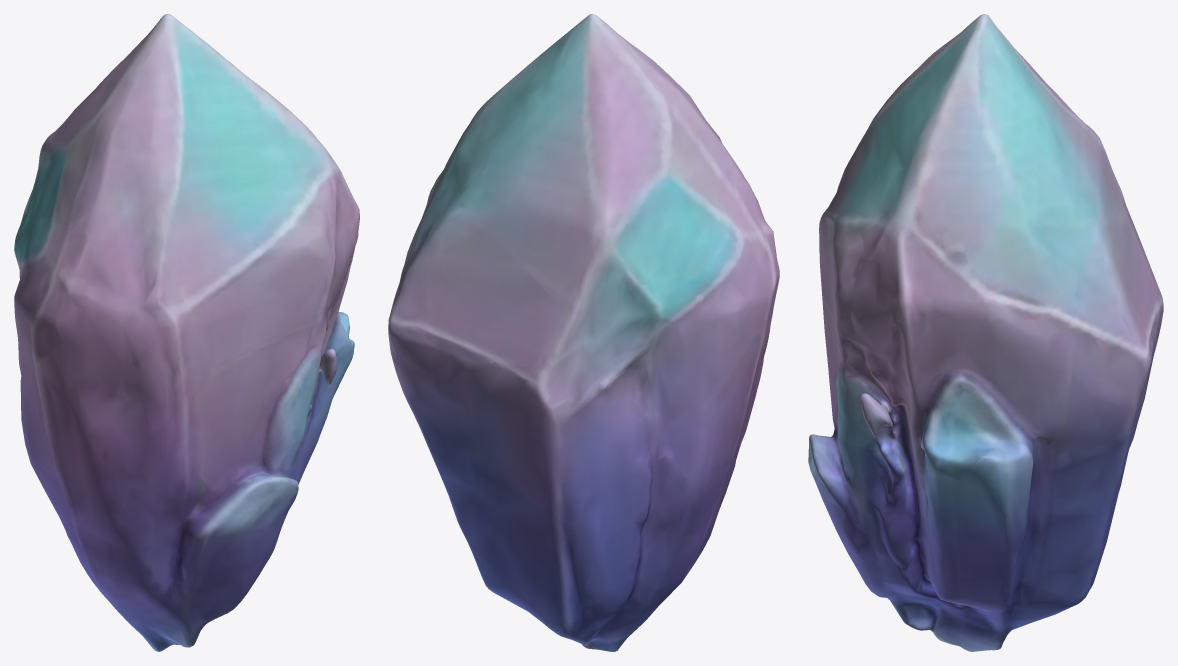
File: crystal2.glb
3 views of the same model, side by side, from view 1: azimuth 30°, elevation 25°; view 2: azimuth 150°, elevation 25°; view 3: azimuth 270°, elevation 25° (orthographic). The views are drawn at different scales.
Parts seen in each view (by area): view 1: high_poly; view 2: high_poly; view 3: high_poly.
Part boxes in pixels (box(x1,y1,x2,y2)): high_poly: box(14, 14, 359, 651); high_poly: box(388, 14, 779, 651); high_poly: box(808, 14, 1163, 651).
Bounding box in the file's own units: 0.5603 × 1 × 0.4993.
Materials: 1 (1 with a texture image).
